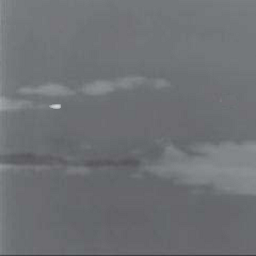Target: (47, 102, 62, 109)
